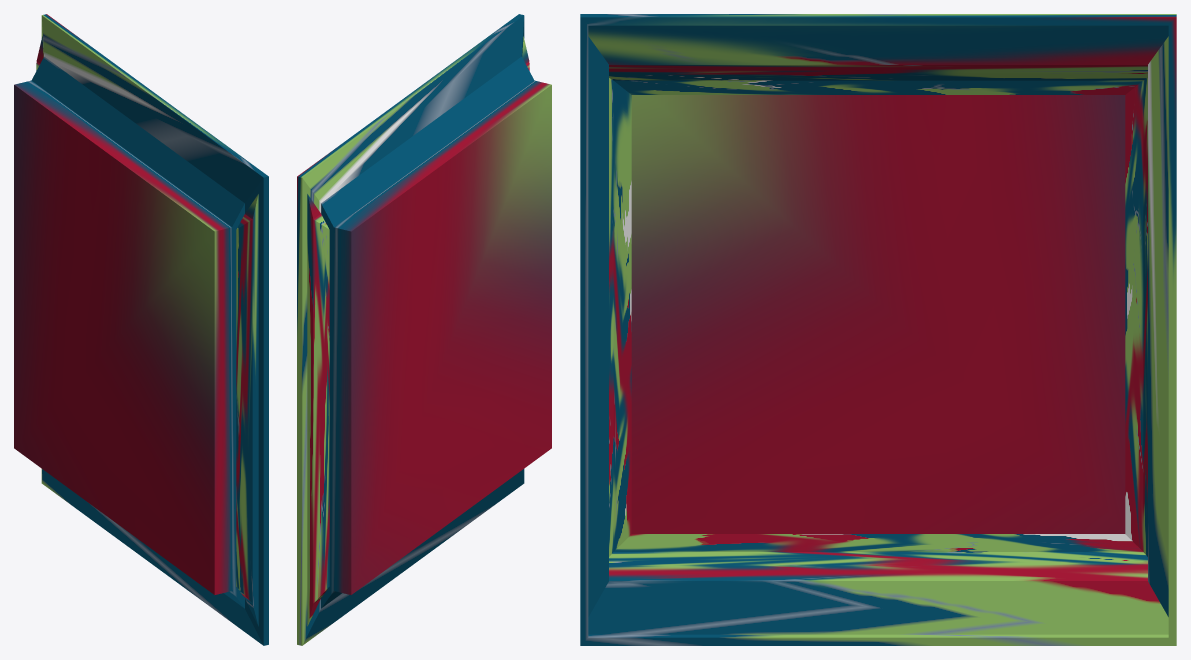
The model's file is woodenFrame.obj.
3 renders of one model, left to right at view 1: azimuth 30°, elevation 25°; view 2: azimuth 150°, elevation 25°; view 3: azimuth 270°, elevation 25°, orthographic. The views are drawn at different scales.
Parts seen in each view (by area): view 1: Cube; view 2: Cube; view 3: Cube.
Boxes of the visible parts, x1=… form: Cube: x1=14, y1=14, x2=268, y2=645; Cube: x1=297, y1=14, x2=551, y2=645; Cube: x1=580, y1=14, x2=1176, y2=645.
Size of the model in its own units: 0.25 by 2.58 by 2.21.
